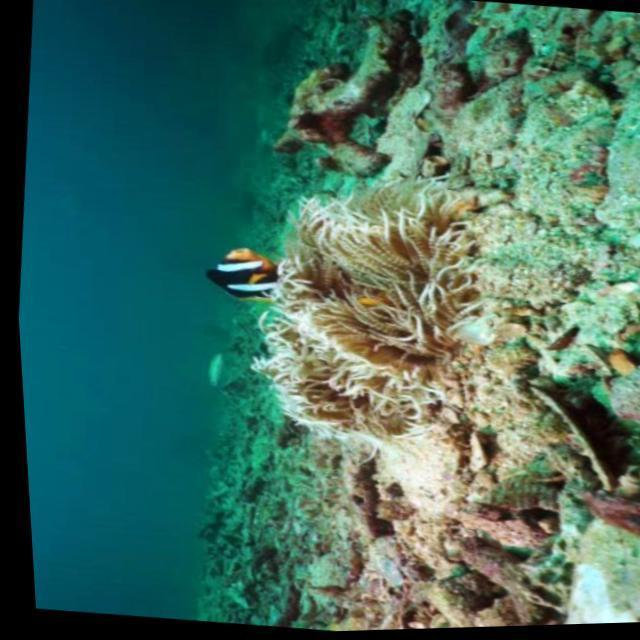Dead Coral: (250, 2, 436, 192), (353, 486, 573, 632), (338, 161, 388, 173)
